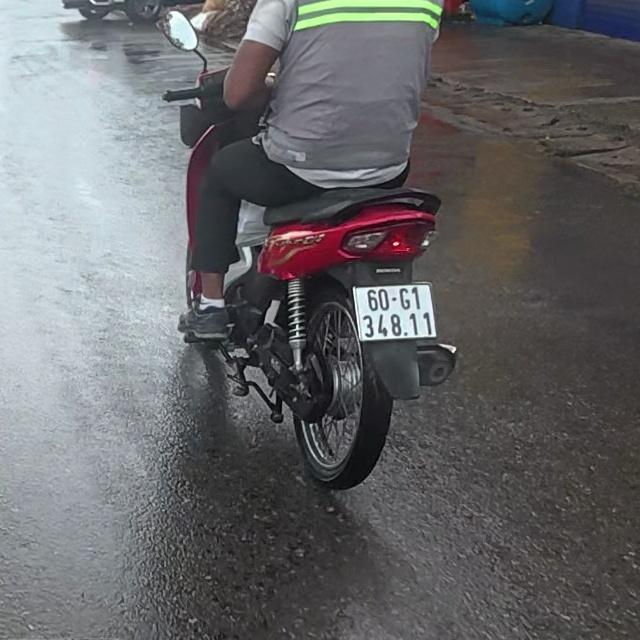license-plate: (353, 282, 436, 342)
